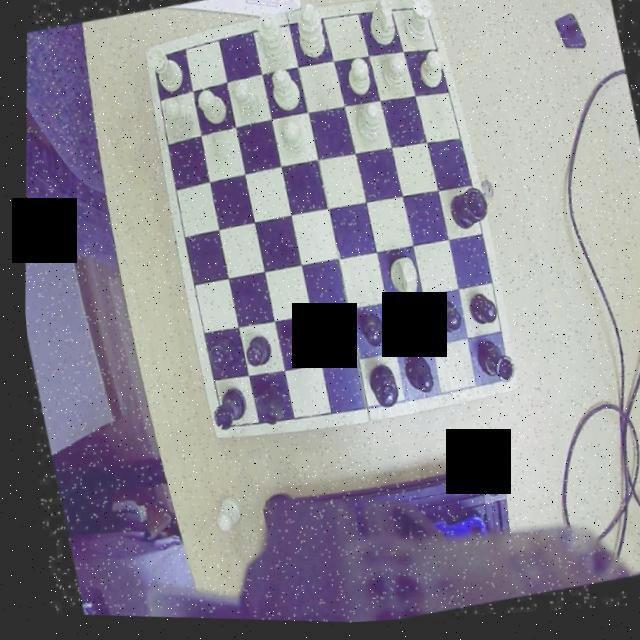chess-table-corners: (482, 367, 512, 398), (140, 46, 166, 80), (204, 414, 233, 443), (407, 0, 432, 28)
